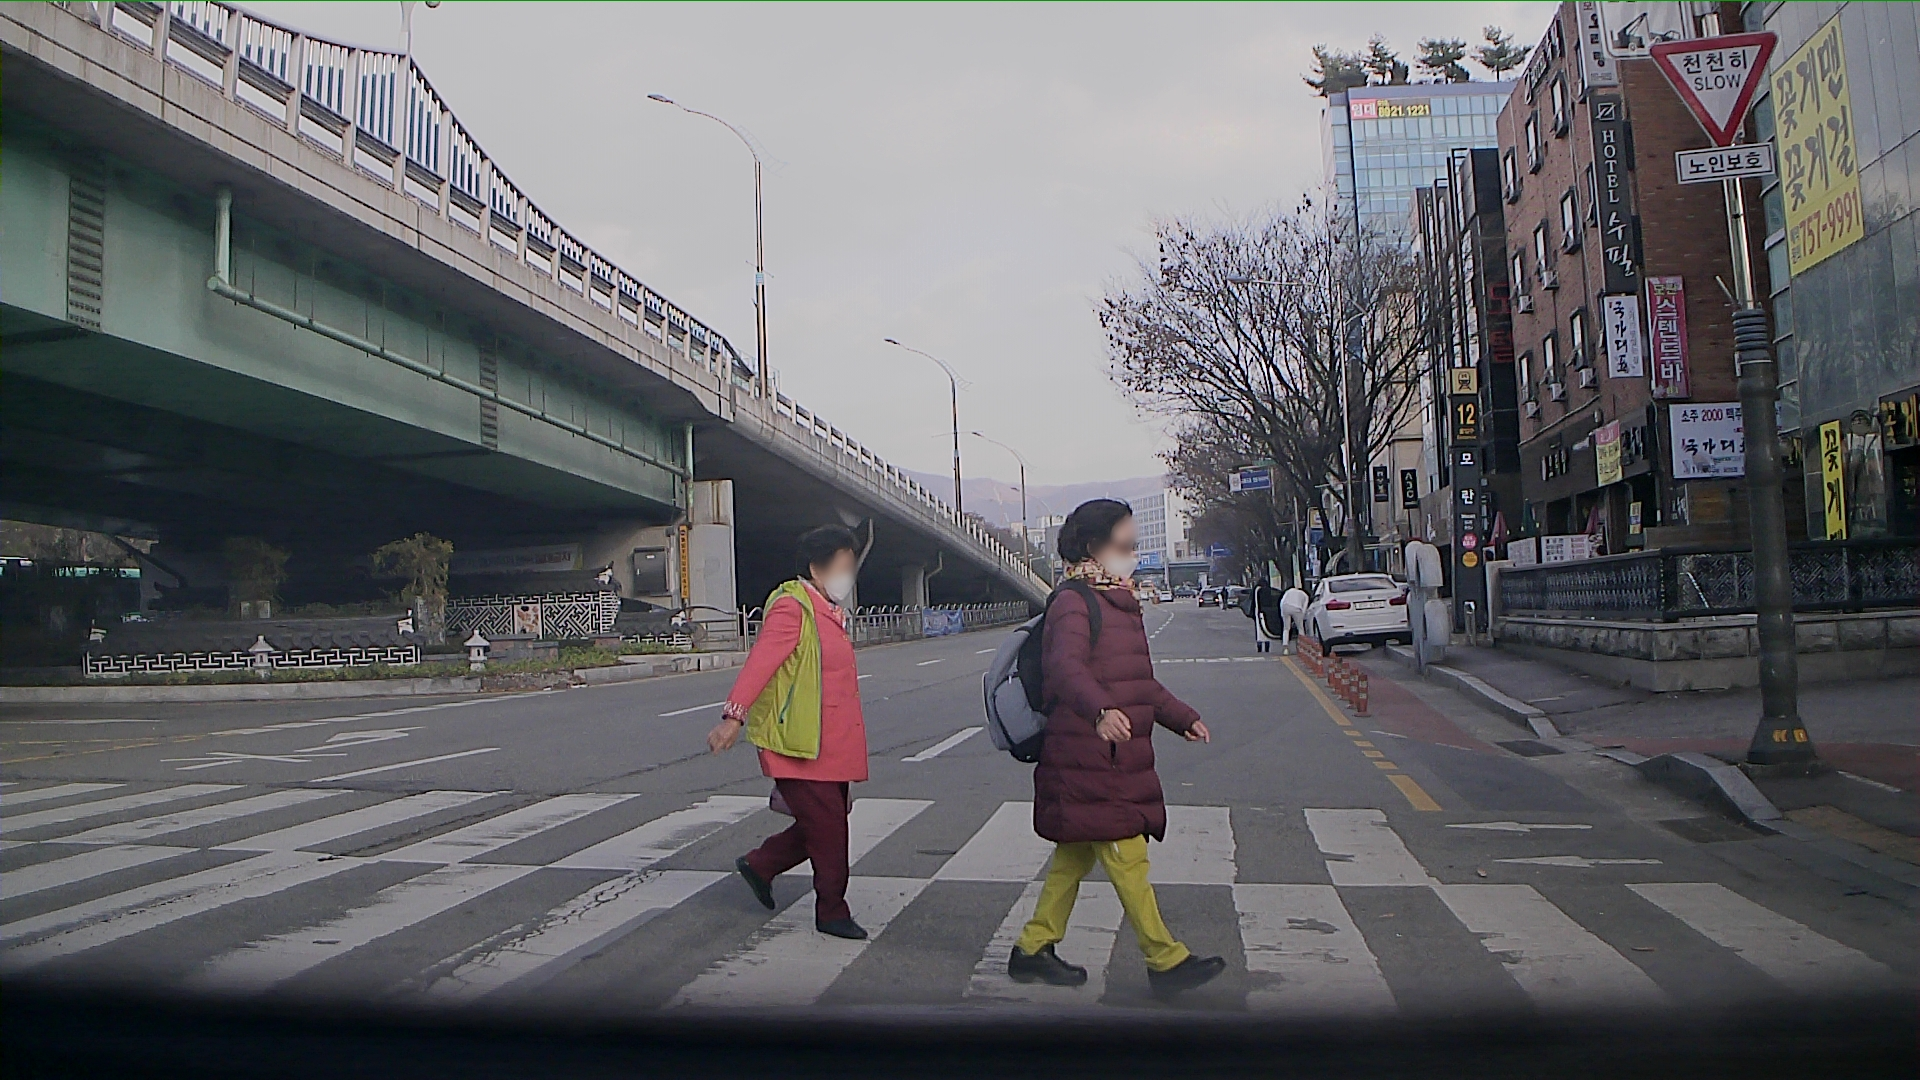trafficSignTri: (1644, 32, 1782, 145)
